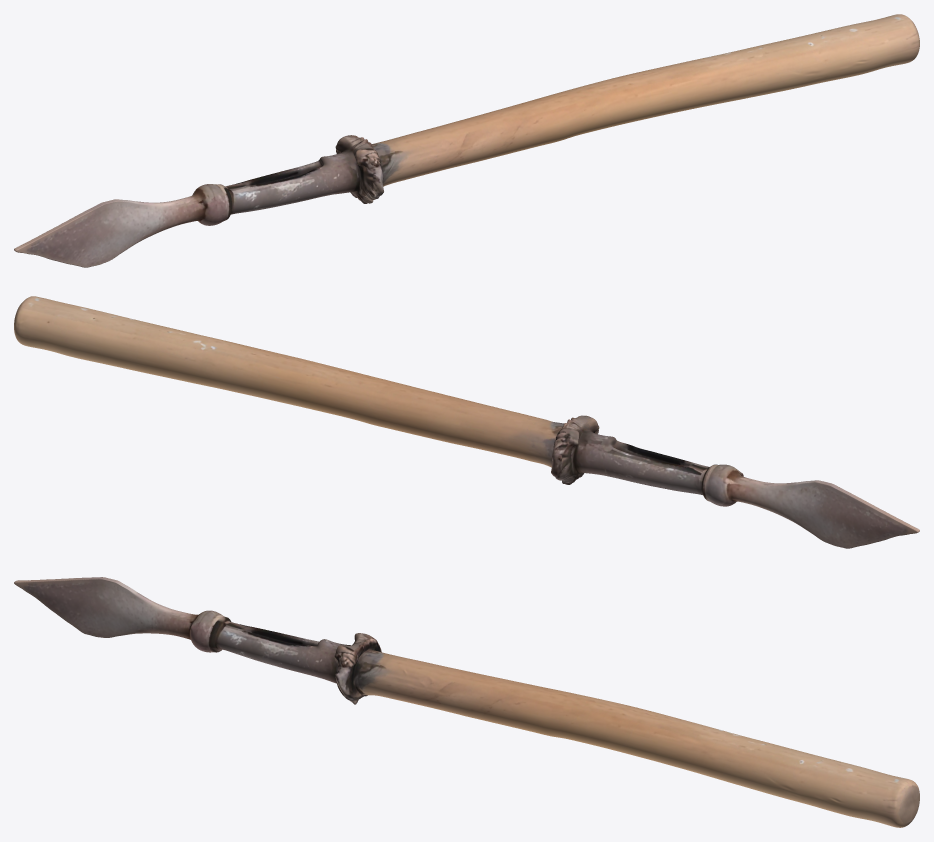
3 renders of one model, top to bottom at view 1: azimuth 30°, elevation 25°; view 2: azimuth 150°, elevation 25°; view 3: azimuth 330°, elevation 25°, orthographic.
Visible parts, largest first — view 1: material; view 2: material; view 3: material.
Part boxes in pixels (box(x1,y1,x2,y2)): material: box(14, 14, 919, 267); material: box(14, 296, 919, 548); material: box(14, 577, 919, 827).
Size of the model in its own units: 1.2 by 0.0766 by 0.0929.
1 material, 1 textured.
